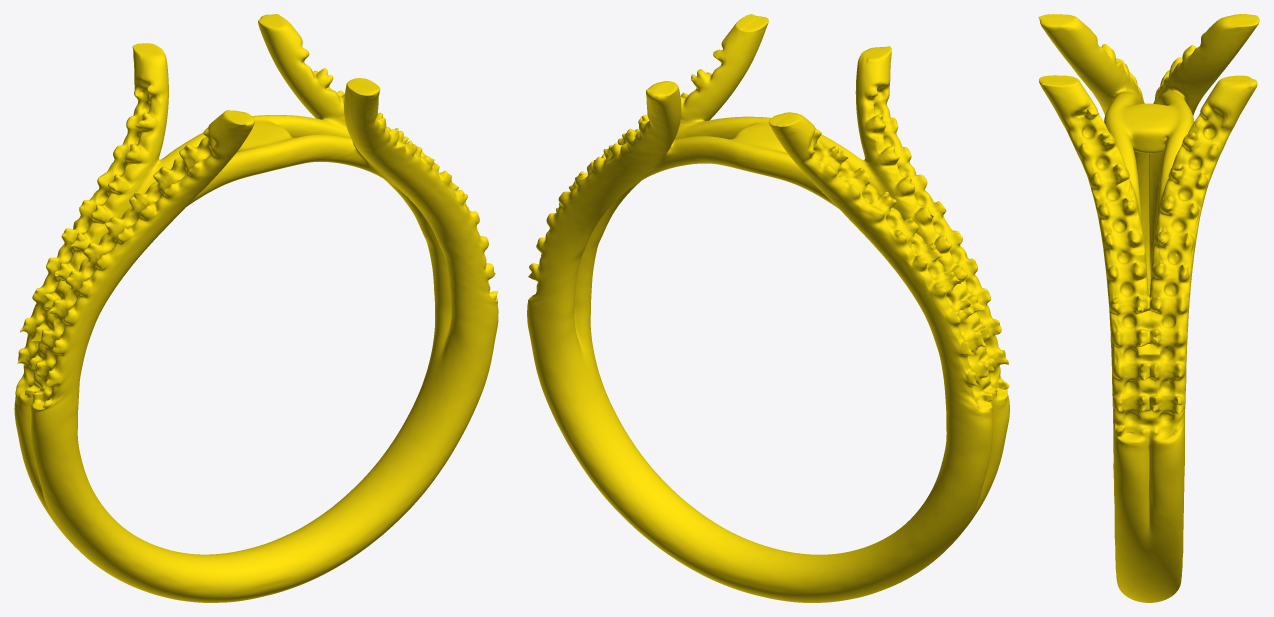
File: Shank_Two row split_French Pave_B_Single Halo_Band.glb
3 views of the same model, side by side, from view 1: azimuth 30°, elevation 25°; view 2: azimuth 150°, elevation 25°; view 3: azimuth 270°, elevation 25° (orthographic).
Bounding box in the file's own units: 0.0212 × 0.023 × 0.00873.
